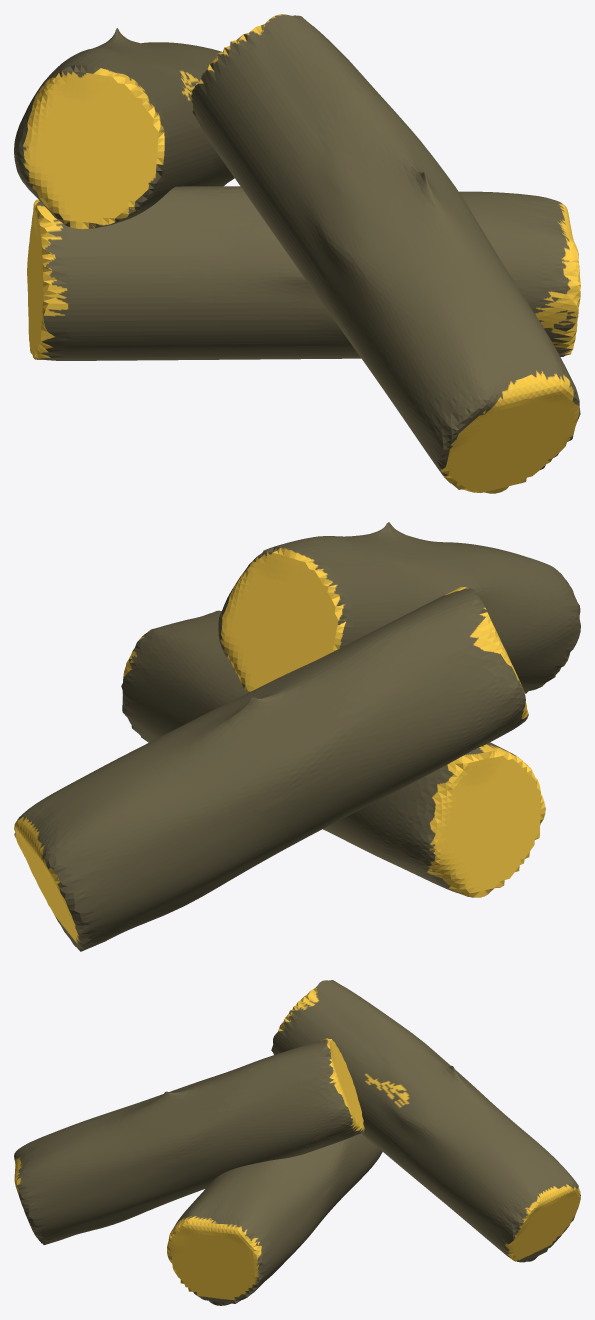
Rendered from Logs.fbx.
The picture shows the model from 3 angles, top to bottom: view 1: azimuth 30°, elevation 25°; view 2: azimuth 150°, elevation 25°; view 3: azimuth 270°, elevation 25°; orthographic projection. The views are drawn at different scales.
Parts seen in each view (by area): view 1: Fire; view 2: Fire; view 3: Fire.
Boxes of the visible parts, x1,y1,x2,y2 form: Fire: [14, 14, 580, 493]; Fire: [14, 522, 580, 951]; Fire: [14, 980, 580, 1305].
Bounding box in the file's own units: 206 × 130 × 330.
